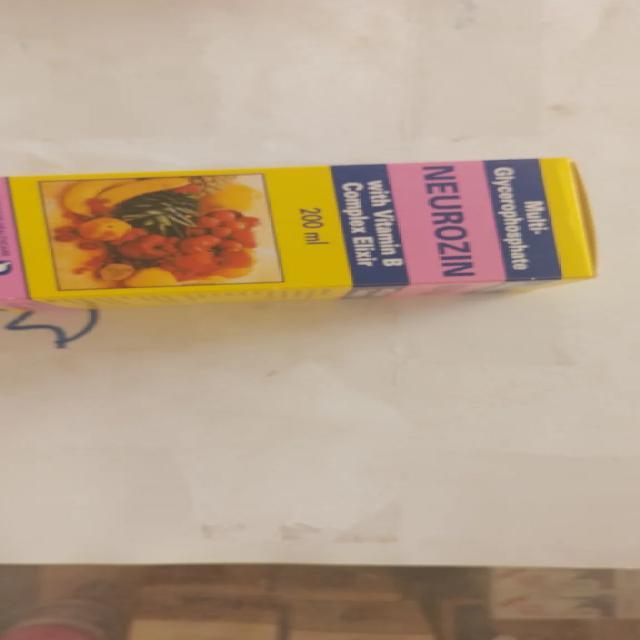drug-name: (417, 163, 479, 278)
